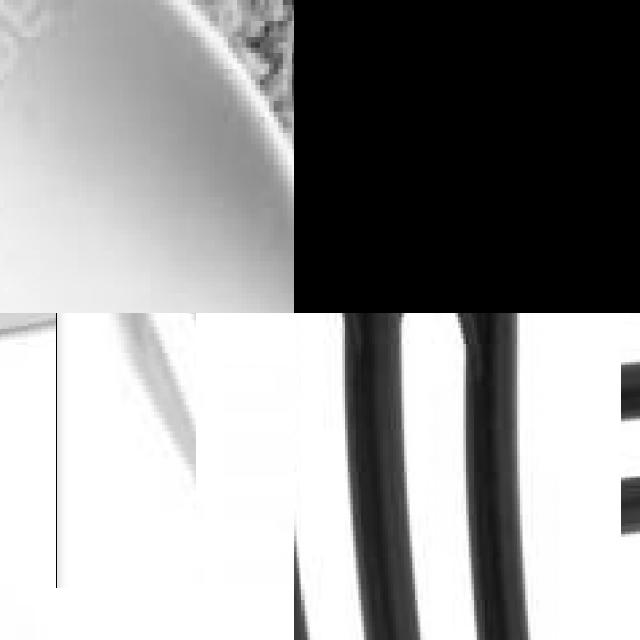forks: (294, 313, 640, 621), (0, 313, 294, 476)
spoons: (0, 0, 294, 313)
